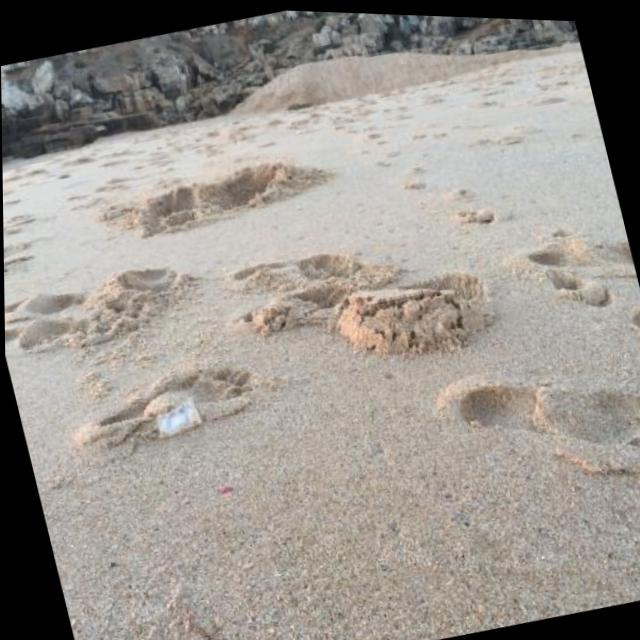plastic: (150, 392, 204, 443)
